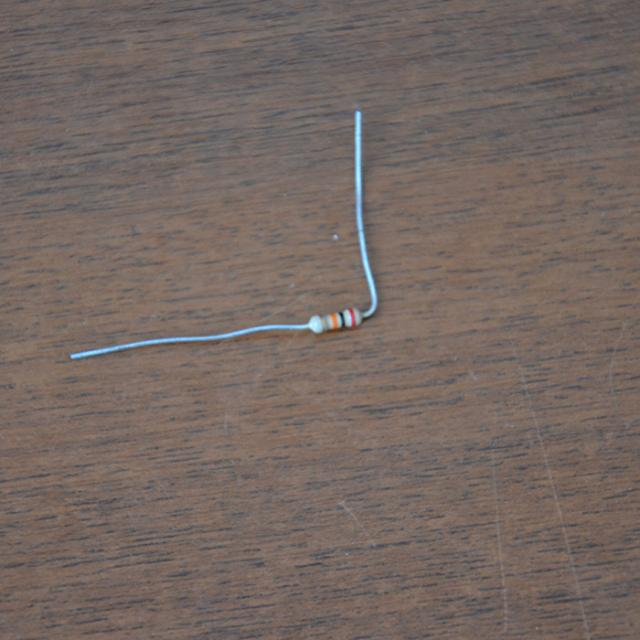black: (339, 311, 347, 327)
gold: (319, 314, 326, 330)
orange: (331, 313, 338, 328)
red: (348, 309, 357, 326)
resistor: (303, 302, 368, 338)
